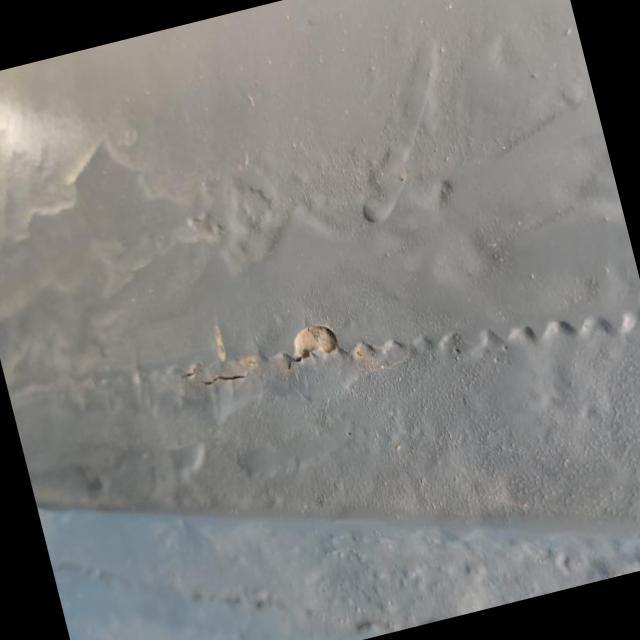Crack: (178, 314, 391, 423)
